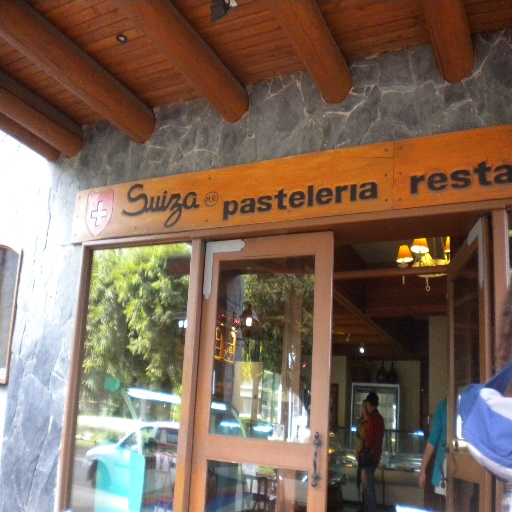hand: (417, 472, 425, 489)
